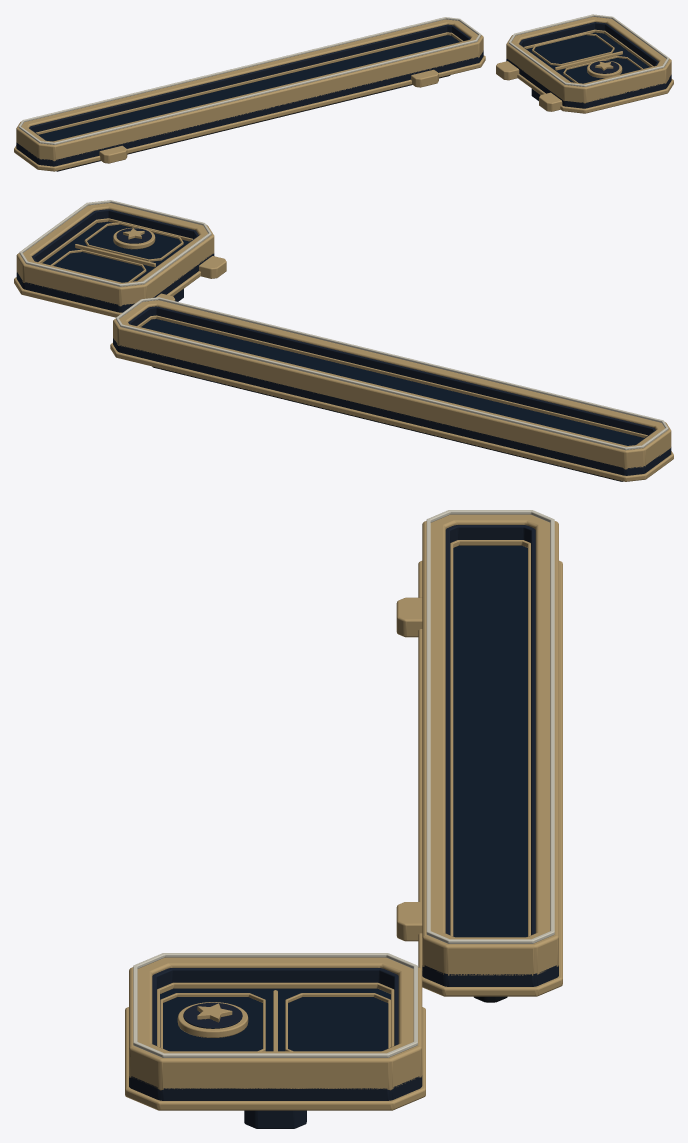
Rendered from identity-addon.glb.
3 renders of one model, top to bottom at view 1: azimuth 30°, elevation 25°; view 2: azimuth 150°, elevation 25°; view 3: azimuth 270°, elevation 25°, orthographic. The views are drawn at different scales.
Parts seen in each view (by area): view 1: Raised forged bezel, Recessed navy face, Raised forged bezel.001, Inner ink reveal, Enamel structural casing, Warm silver chamfer highlight, Lower champagne stepped plinth, Inner fine brass bead, RANK_SOCKET inner bed, Inner ink reveal.001, Warm silver chamfer highlight.001, Enamel structural casing.001 (+11 smaller); view 2: Raised forged bezel, Recessed navy face, Raised forged bezel.001, Inner ink reveal, Enamel structural casing, Warm silver chamfer highlight, Lower champagne stepped plinth, Inner fine brass bead, Inner ink reveal.001, RANK_SOCKET inner bed, Warm silver chamfer highlight.001, MEDAL_SOCKET inner bed (+7 smaller); view 3: Recessed navy face, Raised forged bezel, Raised forged bezel.001, Inner ink reveal, RANK_SOCKET inner bed, Warm silver chamfer highlight, Lower champagne stepped plinth, Inner ink reveal.001, Enamel structural casing.001, Lower champagne stepped plinth.001, Warm silver chamfer highlight.001, MEDAL_SOCKET inner bed (+9 smaller).
Boxes of the visible parts, x1=… form: Raised forged bezel: x1=16, y1=19, x2=483, y2=161; Recessed navy face: x1=39, y1=35, x2=459, y2=141; Raised forged bezel.001: x1=506, y1=17, x2=671, y2=103; Inner ink reveal: x1=29, y1=24, x2=470, y2=140; Enamel structural casing: x1=16, y1=50, x2=483, y2=166; Warm silver chamfer highlight: x1=18, y1=17, x2=481, y2=144; Lower champagne stepped plinth: x1=14, y1=55, x2=485, y2=171; Inner fine brass bead: x1=36, y1=32, x2=463, y2=134; RANK_SOCKET inner bed: x1=534, y1=35, x2=612, y2=63; Inner ink reveal.001: x1=519, y1=22, x2=658, y2=82; Warm silver chamfer highlight.001: x1=508, y1=14, x2=669, y2=86; Enamel structural casing.001: x1=506, y1=59, x2=671, y2=108; Raised forged bezel: x1=113, y1=300, x2=671, y2=469; Recessed navy face: x1=141, y1=319, x2=643, y2=445; Raised forged bezel.001: x1=16, y1=203, x2=214, y2=306; Inner ink reveal: x1=128, y1=306, x2=655, y2=444; Enamel structural casing: x1=113, y1=338, x2=671, y2=475; Warm silver chamfer highlight: x1=116, y1=297, x2=668, y2=450; Lower champagne stepped plinth: x1=110, y1=343, x2=673, y2=481; Inner fine brass bead: x1=137, y1=315, x2=647, y2=437; Inner ink reveal.001: x1=32, y1=209, x2=198, y2=281; RANK_SOCKET inner bed: x1=53, y1=252, x2=143, y2=282; Warm silver chamfer highlight.001: x1=19, y1=200, x2=211, y2=286; MEDAL_SOCKET inner bed: x1=87, y1=224, x2=180, y2=259; Recessed navy face: x1=453, y1=545, x2=527, y2=937; Raised forged bezel: x1=422, y1=514, x2=558, y2=975; Raised forged bezel.001: x1=129, y1=957, x2=422, y2=1090; Inner ink reveal: x1=445, y1=525, x2=535, y2=935; RANK_SOCKET inner bed: x1=288, y1=997, x2=388, y2=1051; Warm silver chamfer highlight: x1=426, y1=510, x2=554, y2=943; Lower champagne stepped plinth: x1=418, y1=560, x2=562, y2=996; Inner ink reveal.001: x1=152, y1=968, x2=398, y2=1049; Enamel structural casing.001: x1=129, y1=1075, x2=422, y2=1100; Lower champagne stepped plinth.001: x1=125, y1=1007, x2=425, y2=1110; Warm silver chamfer highlight.001: x1=133, y1=953, x2=417, y2=1057; MEDAL_SOCKET inner bed: x1=163, y1=997, x2=262, y2=1051.
Bounding box in the file's own units: 0.334 × 0.023 × 0.112.
